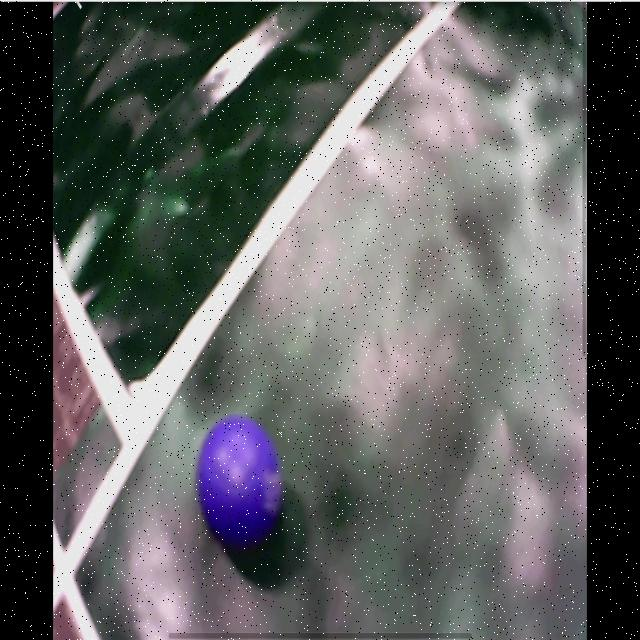ball: (195, 414, 282, 544)
